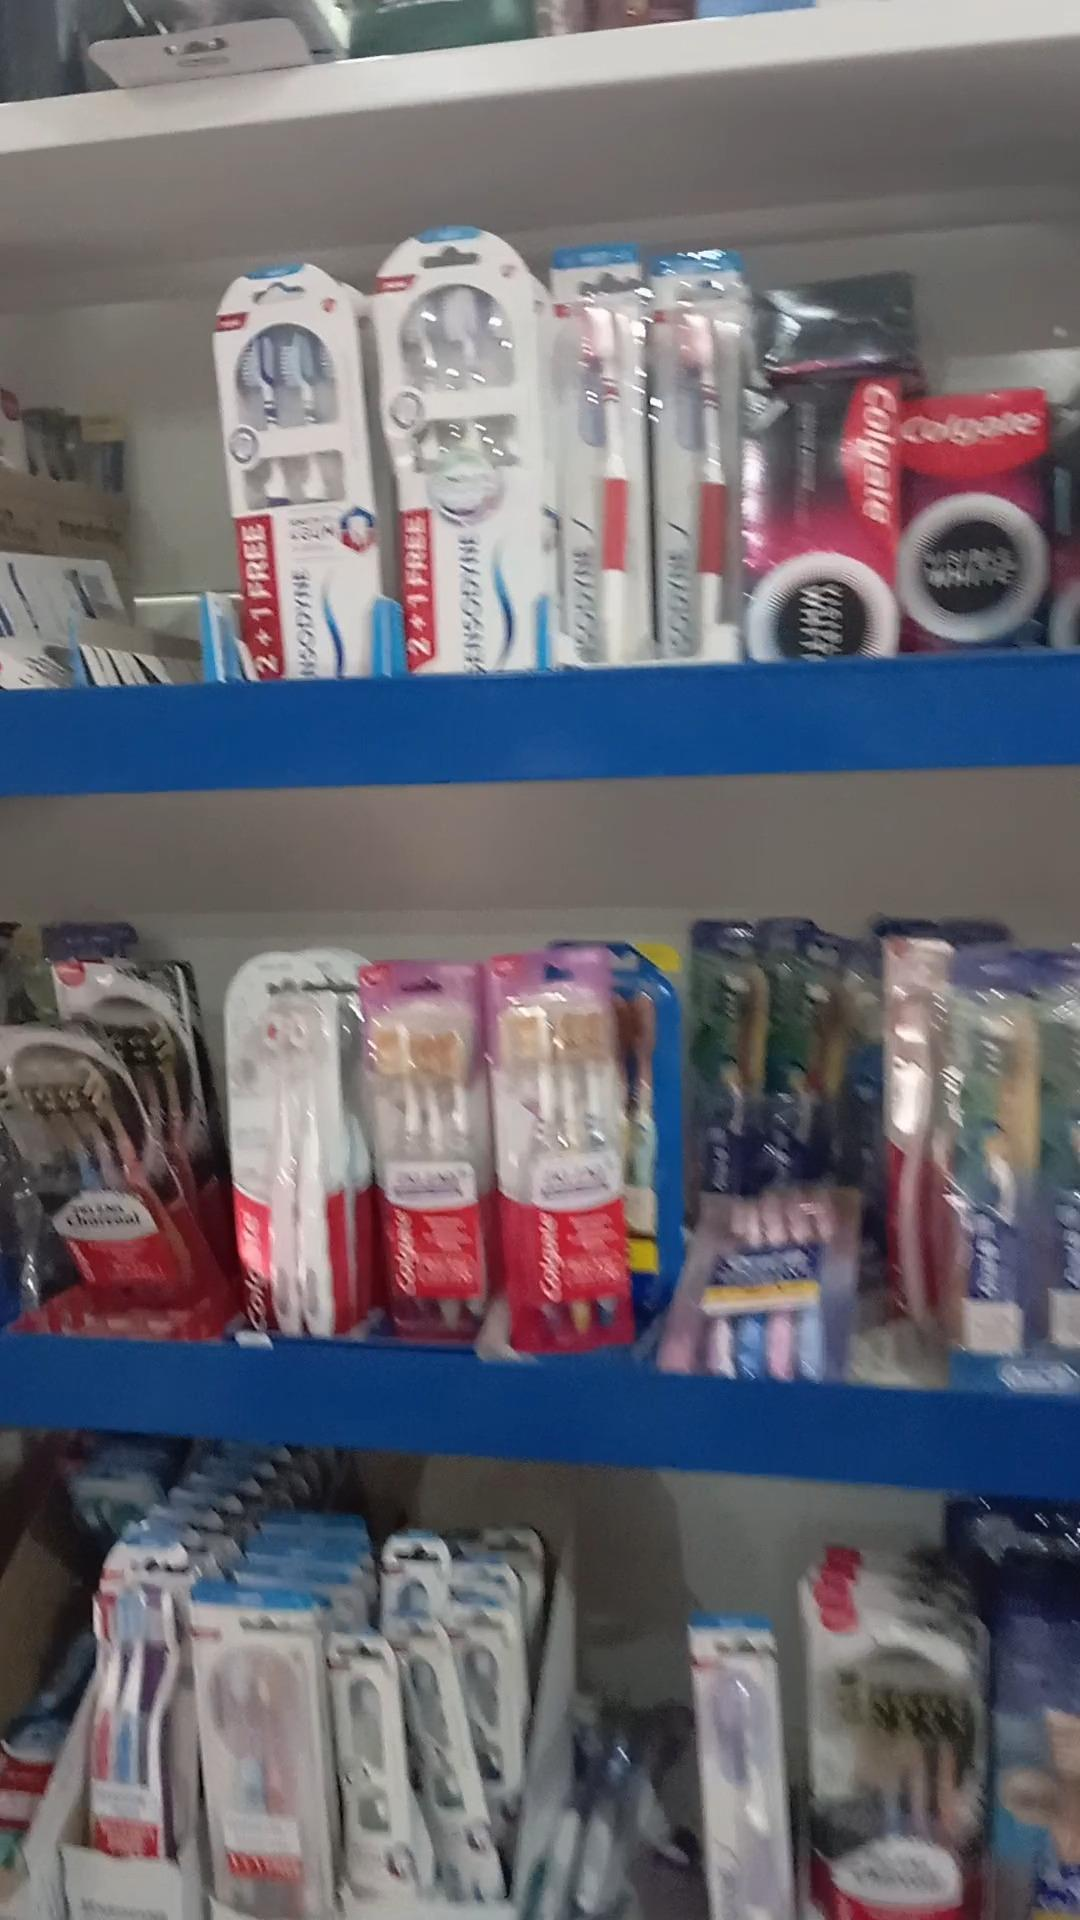16: (215, 258, 375, 675)
4: (378, 227, 538, 674)
6: (92, 1536, 191, 1855)
9: (948, 943, 1034, 1341)
liquid soap: (819, 1609, 988, 1920), (1, 1022, 161, 1307)
